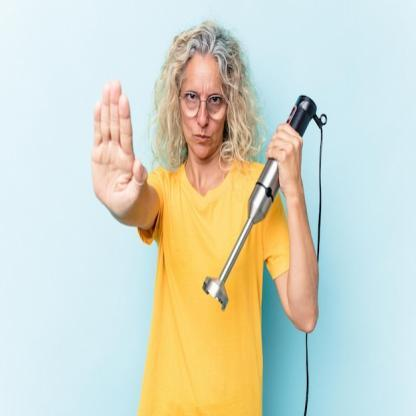stop: (91, 77, 150, 225)
